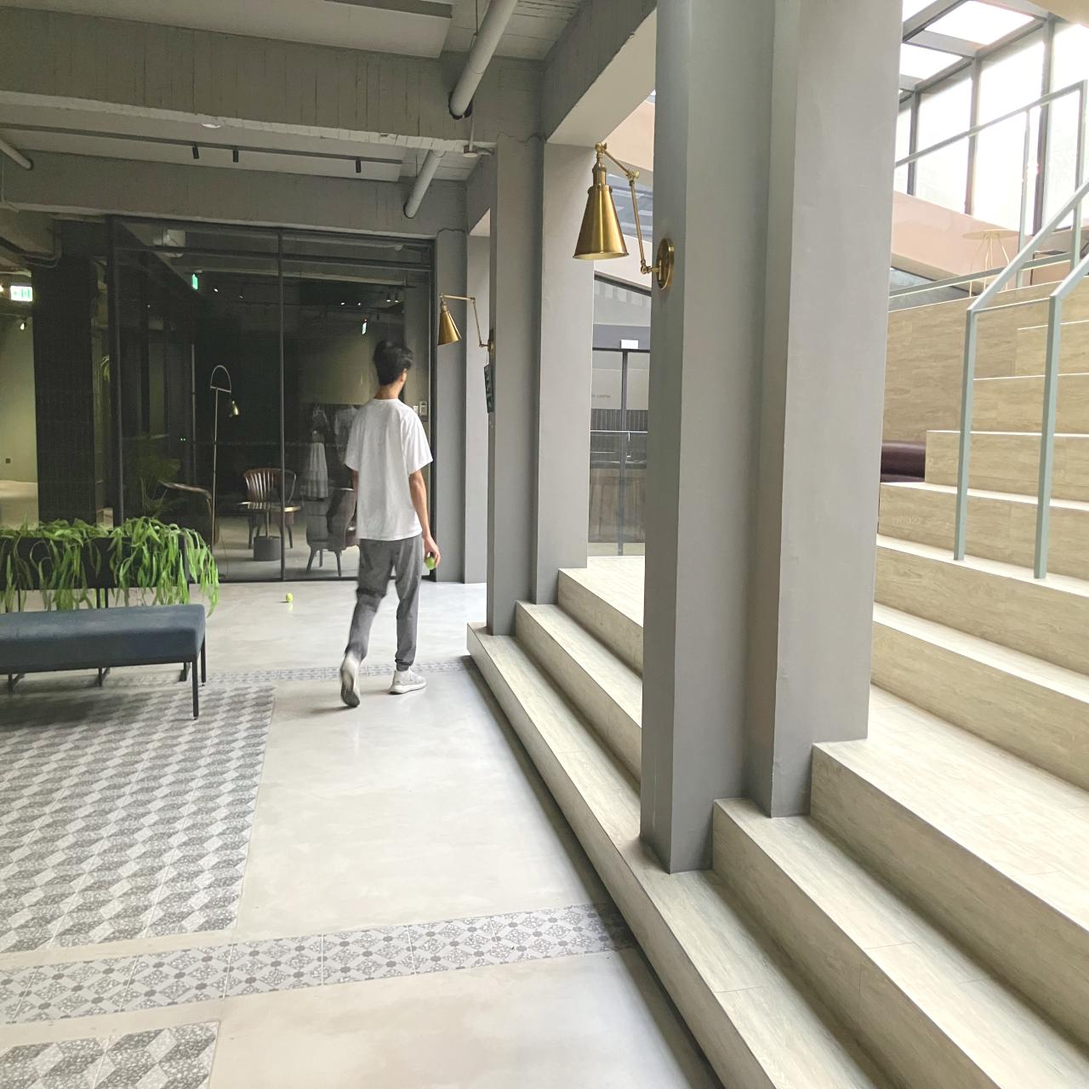person: (340, 341, 440, 706)
tennisball: (425, 555, 436, 570), (286, 593, 293, 602)
